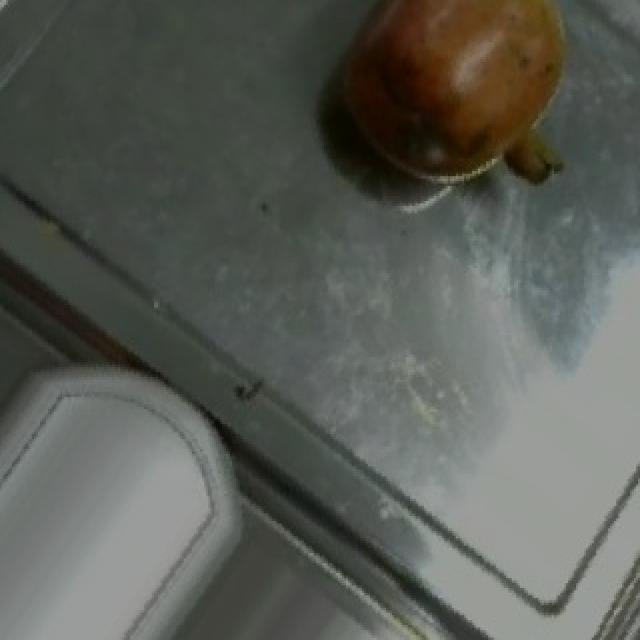fruit: (312, 0, 598, 211)
